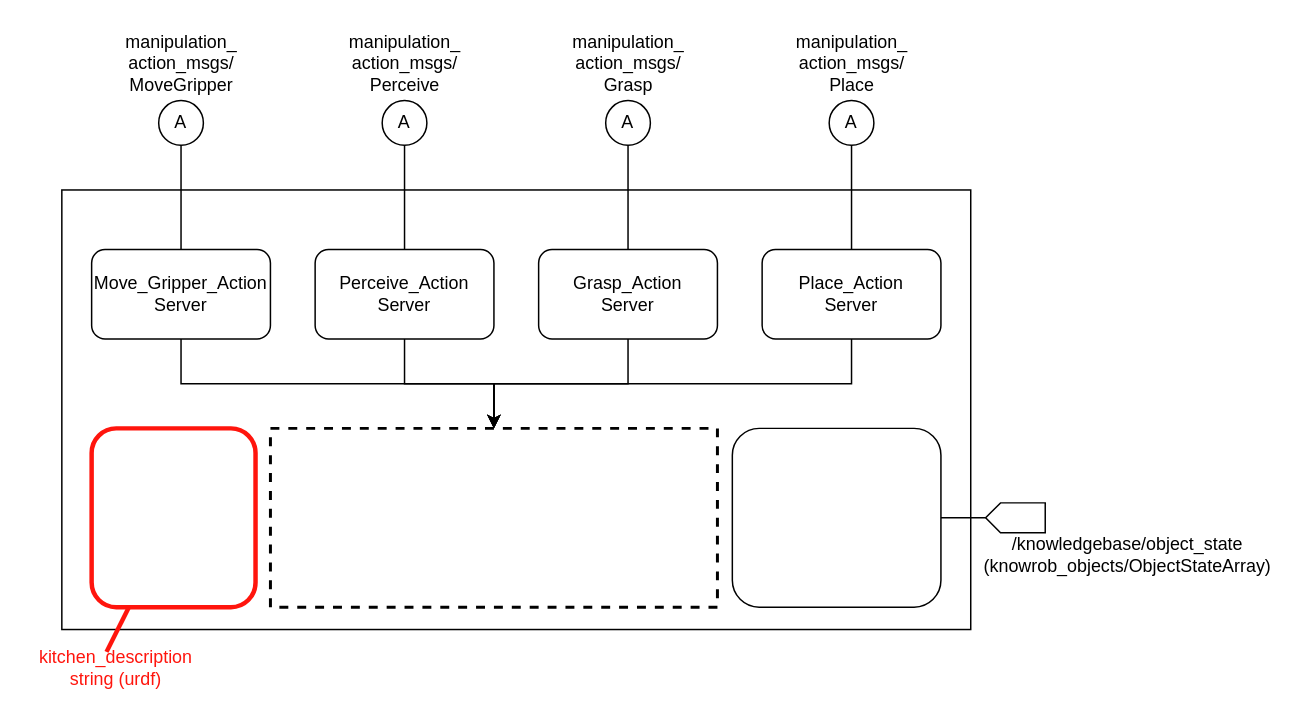
Image size: 1308x715. Some labels were removed from this diagram. Each missing label, with the box of its shape:
Giskard: (268, 426, 718, 608)
load_static_objects: (89, 425, 257, 609)
Object_State_Listener: (731, 427, 941, 607)
